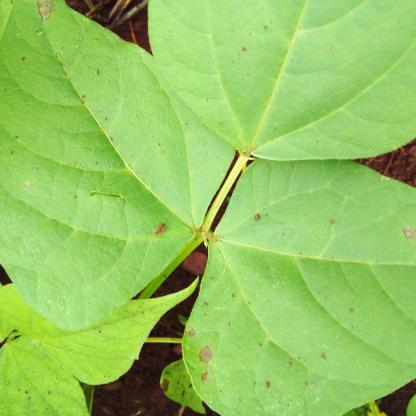Beans_Angular_LeafSpot: (0, 1, 239, 333), (185, 159, 414, 416), (144, 0, 416, 158)
